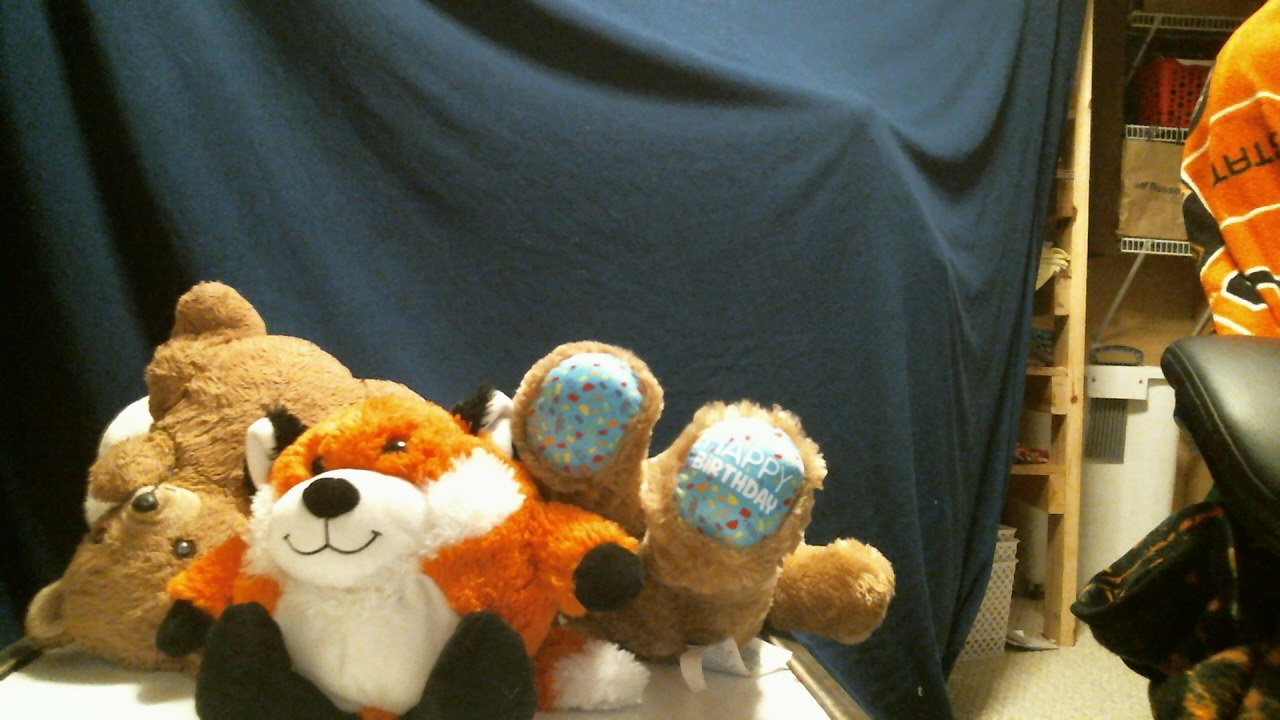Little_Mister_Bear: (95, 494, 204, 569)
